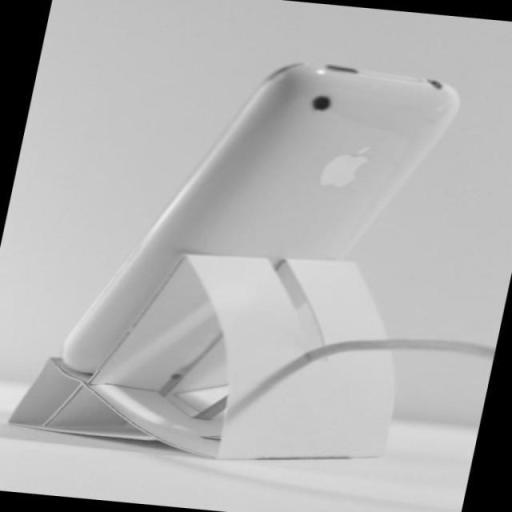phone: (60, 57, 471, 378)
